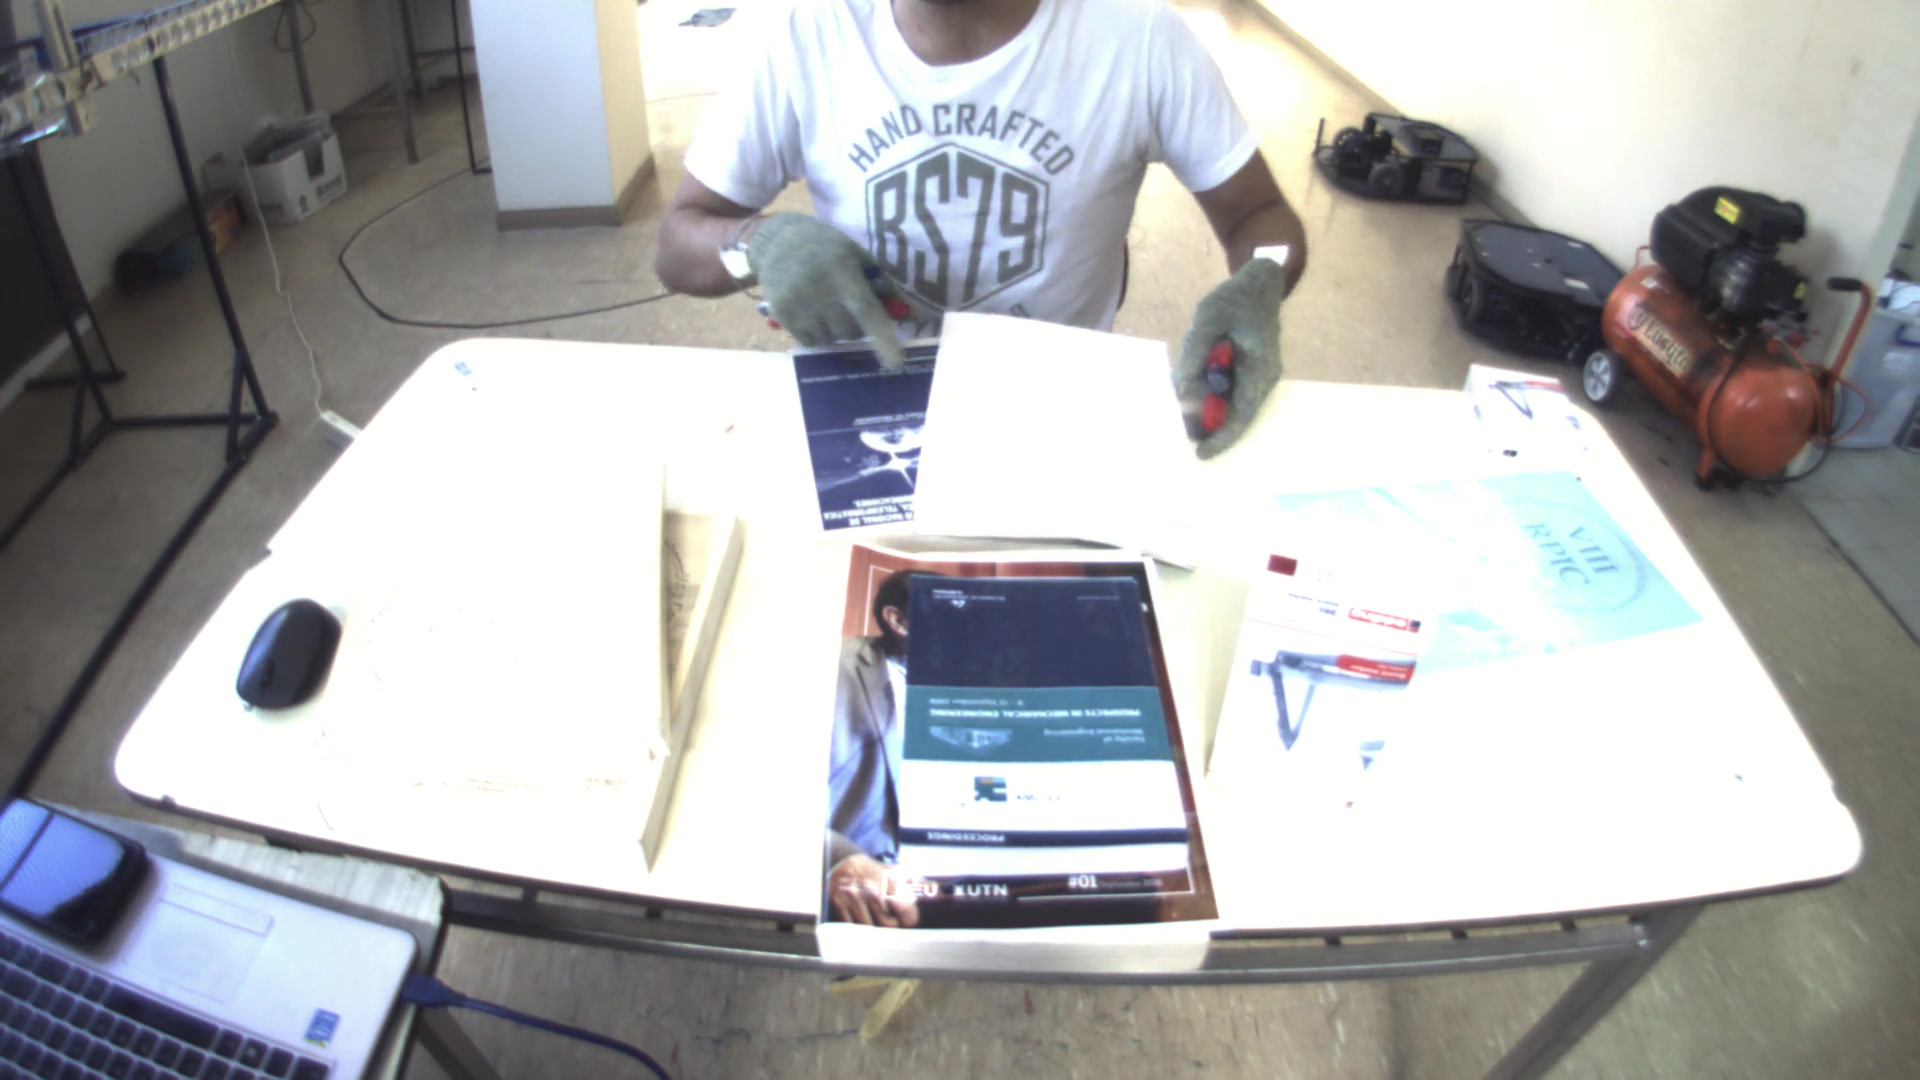hand: (724, 207, 931, 367), (1167, 249, 1303, 456)
